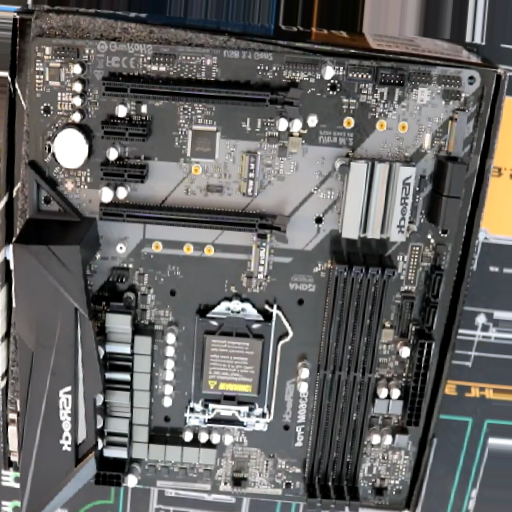CPU: (184, 298, 278, 428)
GPU: (97, 202, 291, 245), (100, 77, 301, 118)
MOTHERBOARD: (13, 40, 480, 504)
RAM: (306, 254, 396, 512)
SSD: (240, 152, 260, 196), (250, 241, 272, 281)
